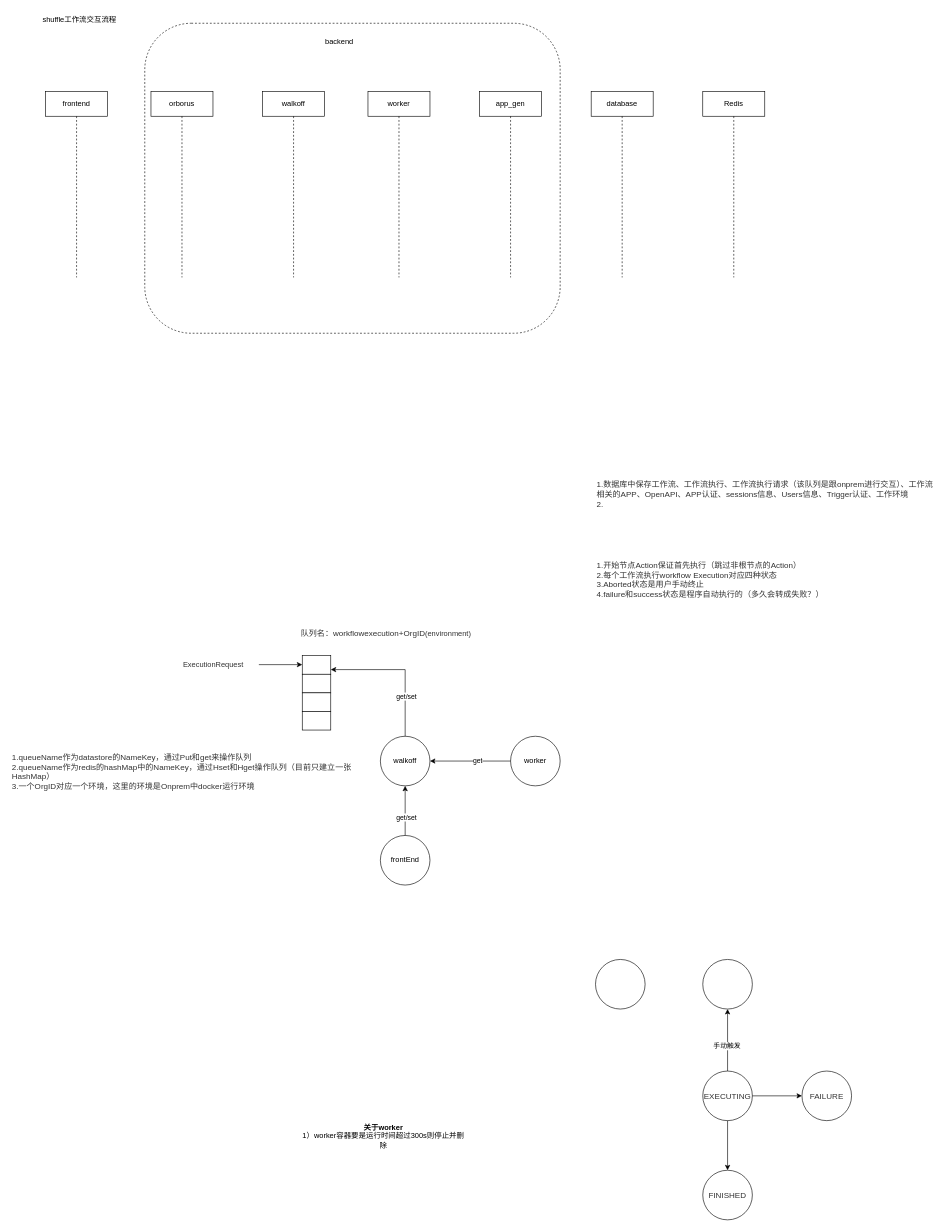
This 947x1231 diagram has some shape labels left out. The shapes that lost their labels are listed below. From the top down, each one's centre as x and y in pixels, then its label:
At (x=620, y=984): "SKIPPED".
At (x=727, y=984): "ABORTED".
